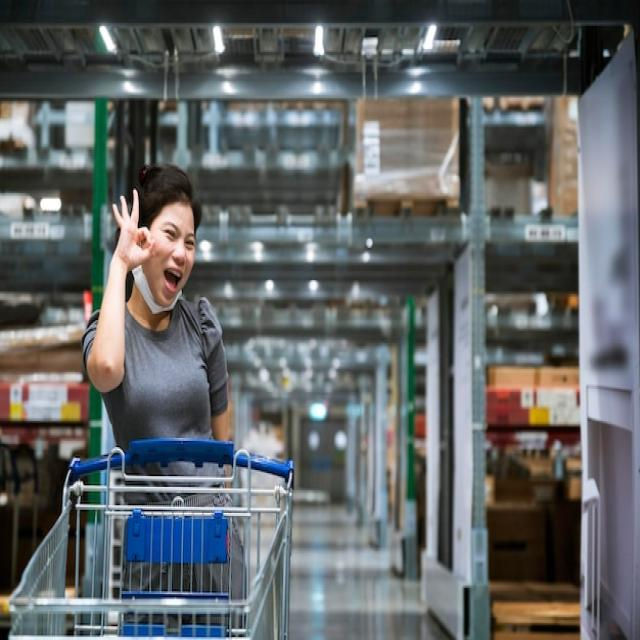Person: (82, 161, 248, 640)
